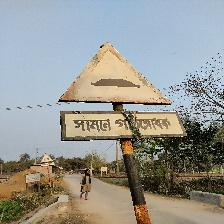Speed-breaker: (57, 41, 181, 140)
